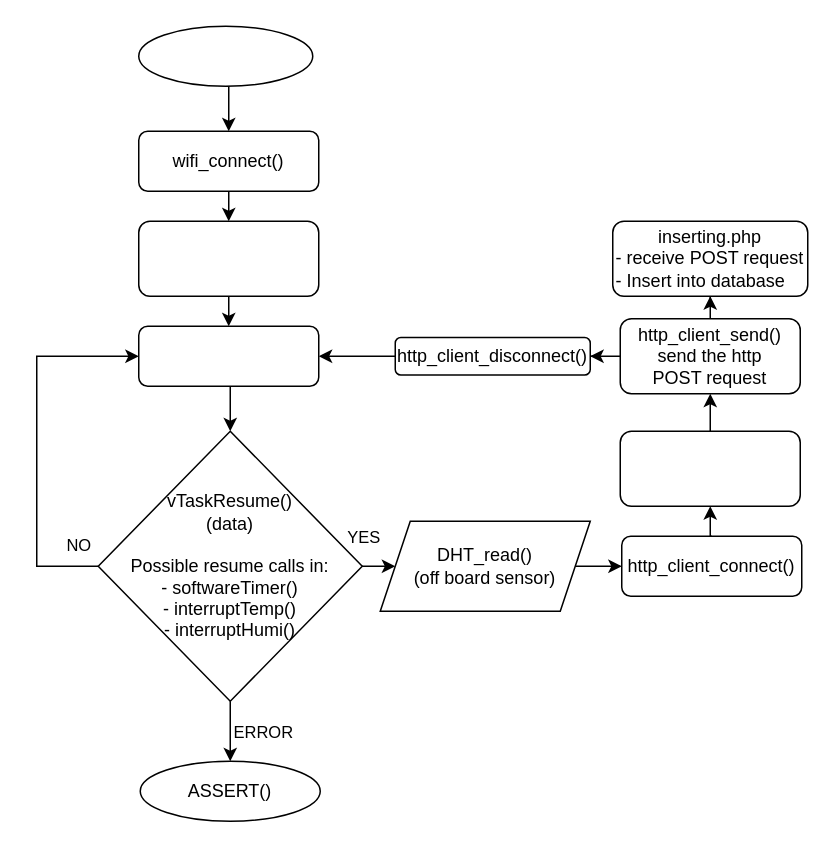
The diagram is 834 pixels wide and 848 high, and some of its shapes have lost their labels. The centre of each missing label's shape, as x and y in pixels:
http_task() - header parameters - Initialisation: pixel 228 258
http_task() vTaskSuspend: pixel 228 355
Start RTOS: pixel 225 55
strcat() sensorValue in correct body format: pixel 709 468
